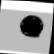correct: (18, 13, 46, 40)
